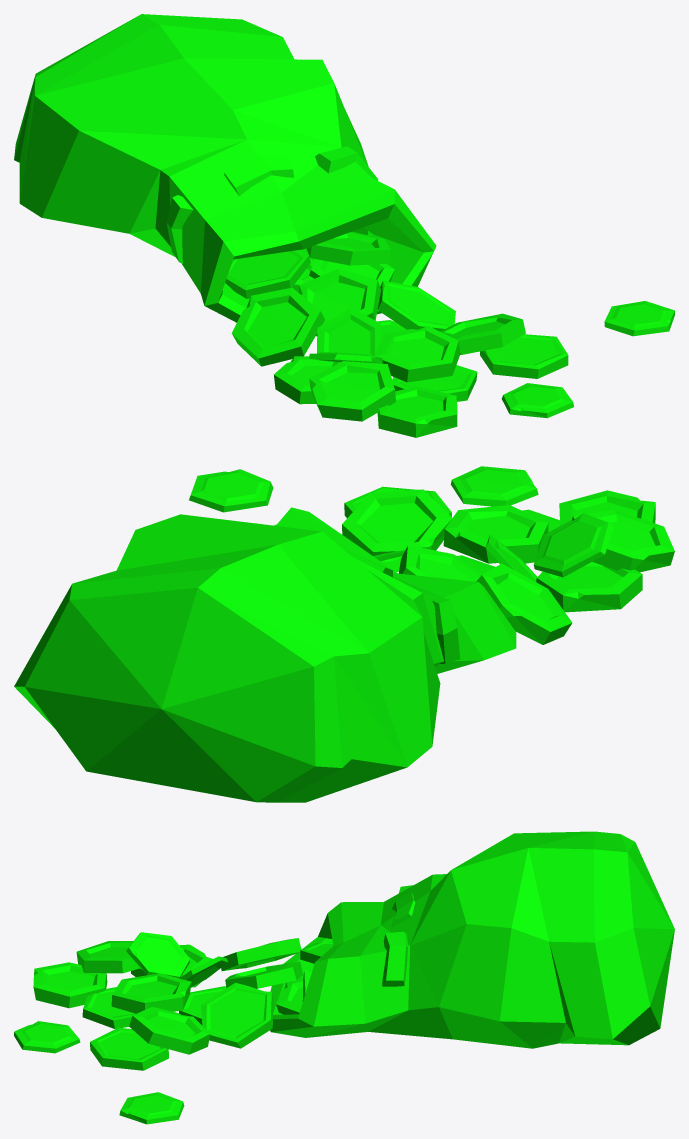
The model's file is SM_Pouch_Money_Small_Lying_Fantasy.fbx.
3 views of the same model, one above another, from view 1: azimuth 30°, elevation 25°; view 2: azimuth 150°, elevation 25°; view 3: azimuth 270°, elevation 25° (orthographic). The views are drawn at different scales.
Parts seen in each view (by area): view 1: pouch-money-small-lying-fantasy; view 2: pouch-money-small-lying-fantasy; view 3: pouch-money-small-lying-fantasy.
Boxes of the visible parts, <box> form: pouch-money-small-lying-fantasy: <box>14,14,674,437</box>; pouch-money-small-lying-fantasy: <box>14,466,674,802</box>; pouch-money-small-lying-fantasy: <box>14,831,674,1124</box>.
Bounding box in the file's own units: 0.2492 × 0.1017 × 0.3803.
